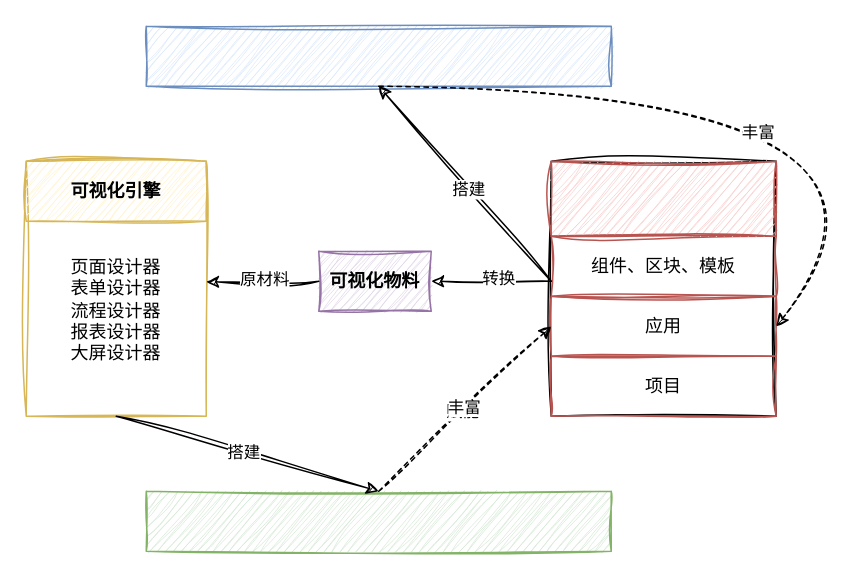
Image size: 855x578. Some labels were removed from this diagram. The centre of each missing label's shape, as x and y in pixels:
"可视化应用" belongs at point (378, 520).
"生态市场" belongs at point (663, 198).
"编码应用" belongs at point (378, 55).
